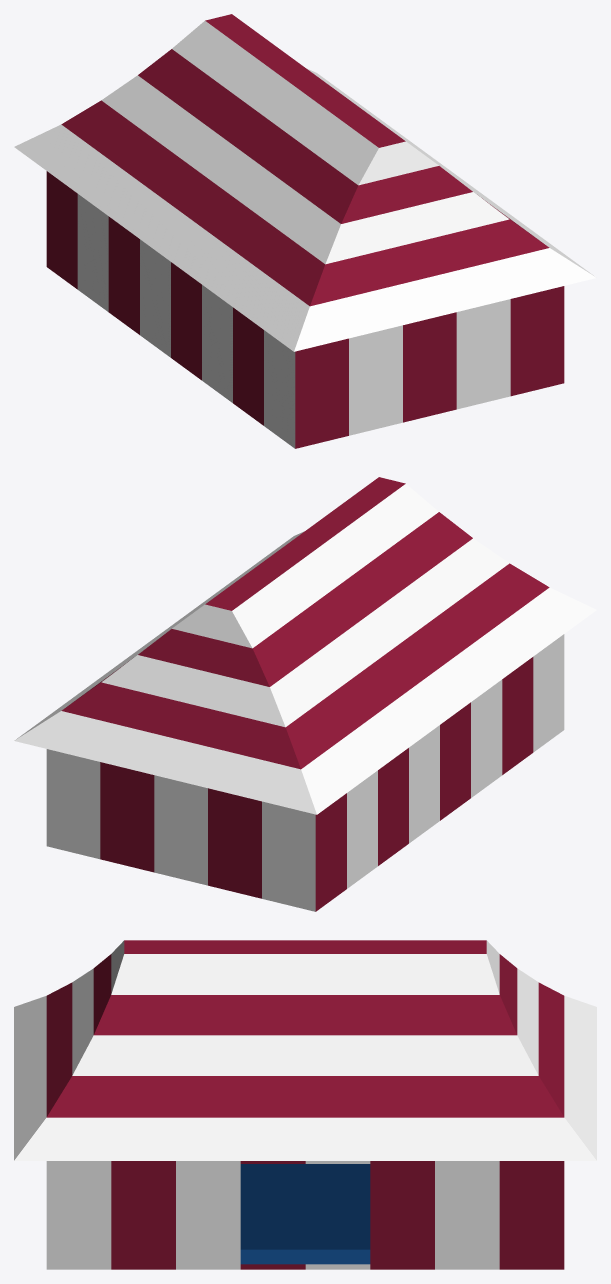
The model's file is Tent05.fbx.
3 renders of one model, top to bottom at view 1: azimuth 30°, elevation 25°; view 2: azimuth 150°, elevation 25°; view 3: azimuth 270°, elevation 25°, orthographic. The views are drawn at different scales.
Visible parts, largest first — view 1: Tent05; view 2: Tent05; view 3: Tent05.
Boxes of the visible parts, x1,y1,x2,y2 form: Tent05: [14, 14, 596, 448]; Tent05: [14, 477, 596, 911]; Tent05: [14, 940, 596, 1269].
Size of the model in its own units: 574 by 442 by 919.
